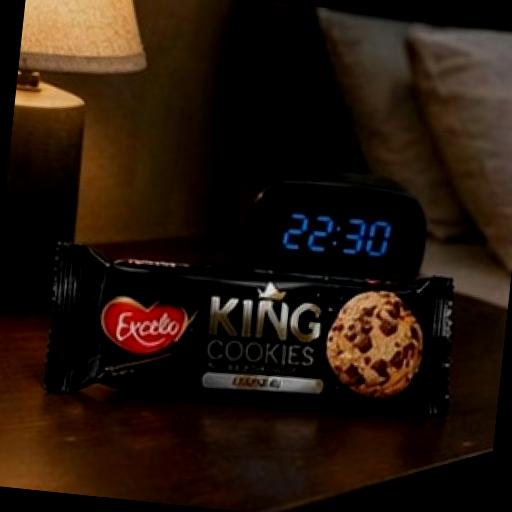king_cooking: (14, 148, 494, 450)
